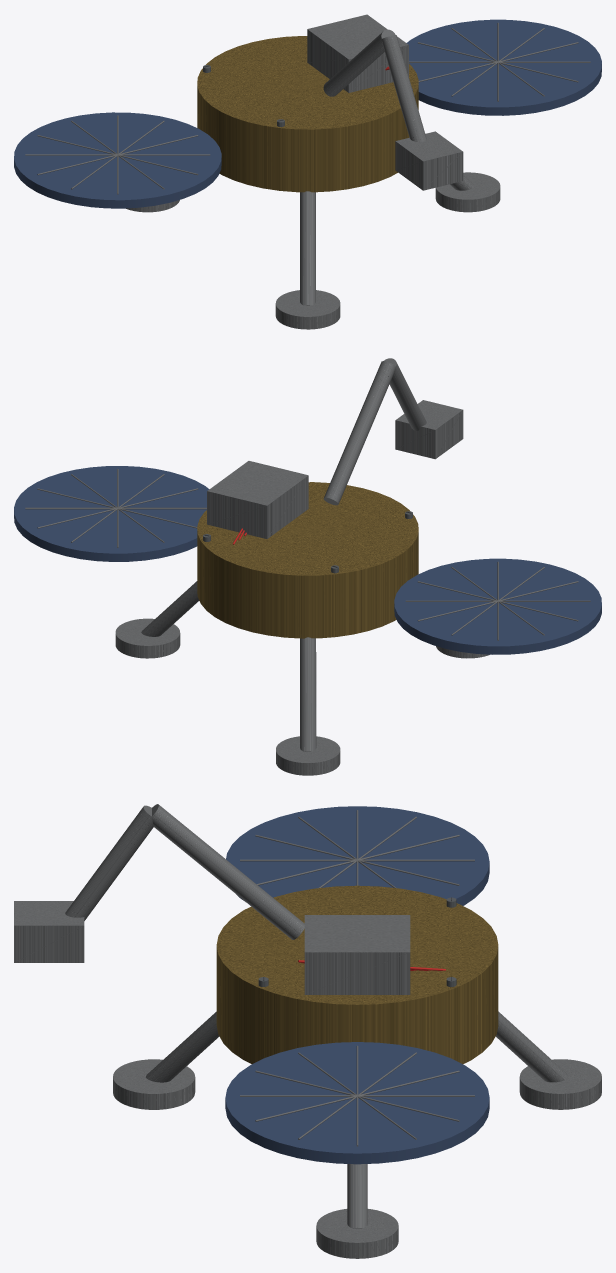
The model's file is phoenix-schematic.glb.
The picture shows the model from 3 angles, top to bottom: view 1: azimuth 30°, elevation 25°; view 2: azimuth 150°, elevation 25°; view 3: azimuth 270°, elevation 25°; orthographic projection. The views are drawn at different scales.
Parts seen in each view (by area): view 1: solar-array (×2), body, tega, foot (×2), scoop, arm-extension, landing-leg, arm; view 2: solar-array (×2), body, tega, foot (×2), landing-leg (×2), scoop, arm, arm-extension; view 3: solar-array (×2), body, foot (×3), tega, landing-leg (×3), scoop, arm, arm-extension.
Boxes of the visible parts, x1,y1,x2,y2 form: solar-array (×2): [14, 19, 601, 208]; body: [197, 36, 418, 192]; tega: [307, 14, 408, 92]; foot (×2): [275, 172, 500, 329]; scoop: [395, 131, 463, 190]; arm-extension: [382, 35, 426, 142]; landing-leg: [300, 191, 315, 305]; arm: [323, 29, 395, 96]; solar-array (×2): [14, 466, 601, 654]; body: [197, 482, 418, 638]; tega: [207, 461, 308, 538]; foot (×2): [115, 618, 340, 775]; landing-leg (×2): [141, 581, 316, 751]; scoop: [395, 400, 463, 459]; arm: [323, 361, 395, 505]; arm-extension: [384, 358, 426, 430]; solar-array (×2): [225, 806, 489, 1164]; body: [216, 885, 498, 1063]; foot (×3): [113, 1059, 601, 1258]; tega: [304, 915, 410, 994]; landing-leg (×3): [146, 1011, 568, 1228]; scoop: [14, 901, 84, 962]; arm: [152, 804, 304, 939]; arm-extension: [65, 805, 153, 920].
Bounding box in the file's own units: 2.8 × 1.27 × 2.
Materials: 8 (3 with a texture image).
